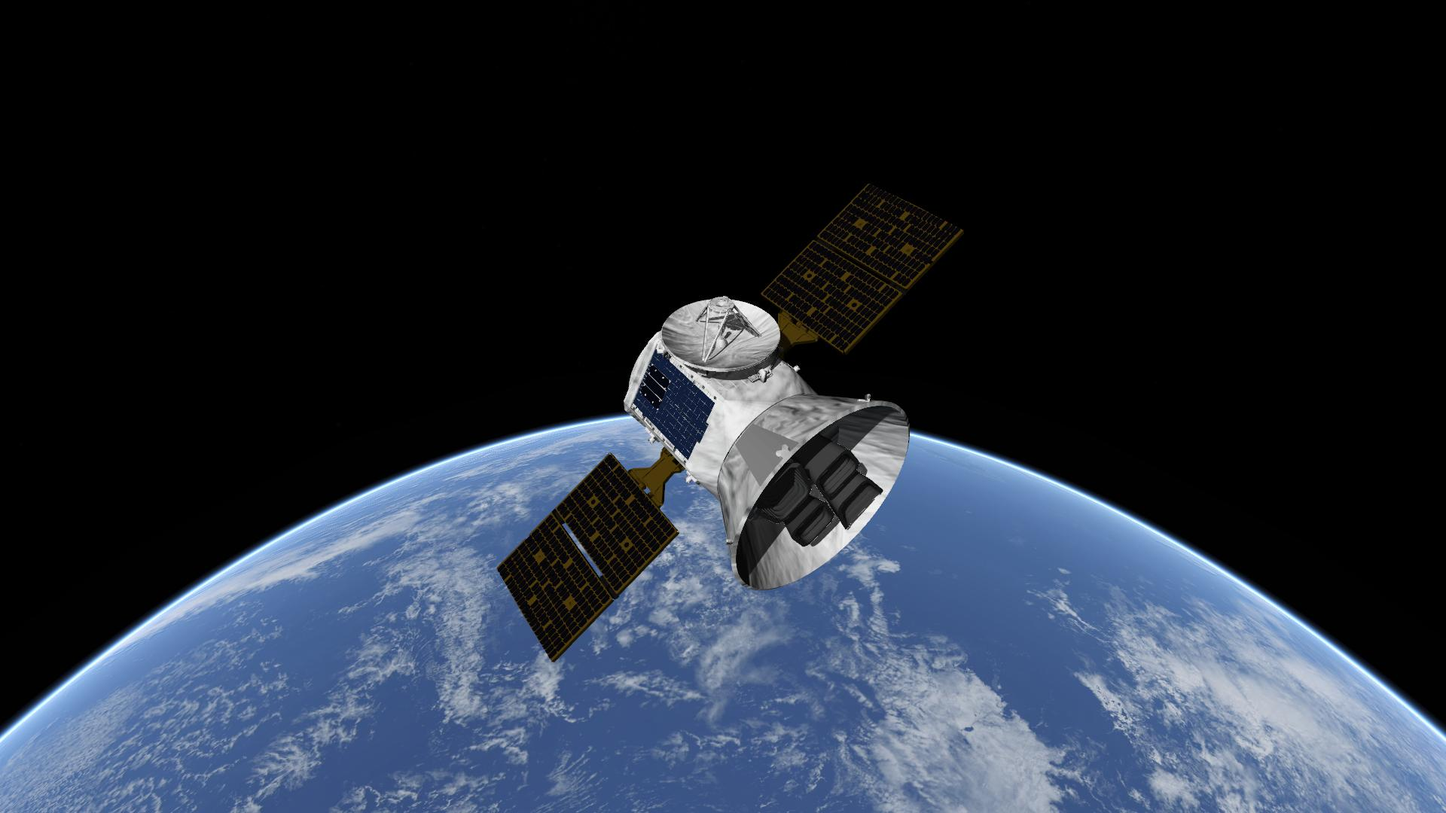antenna: (660, 285, 779, 374)
body: (609, 293, 917, 604)
solar: (493, 454, 681, 663), (771, 181, 960, 354), (630, 346, 713, 453)
thruster: (755, 464, 807, 529), (811, 445, 857, 504), (831, 458, 870, 514), (789, 501, 822, 550)
